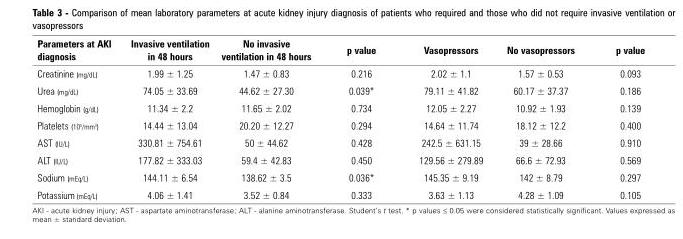table: (36, 36, 644, 200)
table column: (214, 36, 328, 200), (494, 36, 594, 200), (396, 36, 494, 200), (120, 36, 214, 200), (36, 36, 120, 200), (328, 36, 396, 200), (594, 36, 644, 200)
table column header: (36, 36, 644, 64)
table row: (36, 36, 644, 64), (36, 98, 644, 116), (36, 150, 644, 168), (36, 64, 644, 81), (36, 81, 644, 98), (36, 116, 644, 133), (36, 133, 644, 150), (36, 168, 644, 185), (36, 185, 644, 200)
